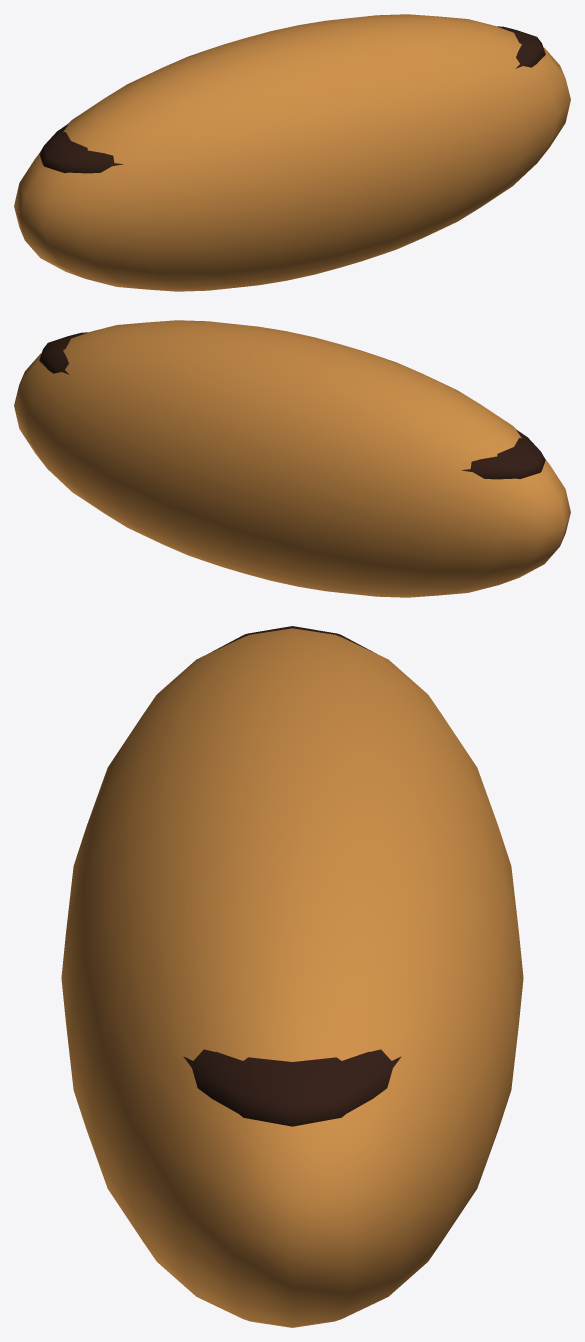
The model's file is wp-eclair-au-chocolat.glb.
3 renders of one model, top to bottom at view 1: azimuth 30°, elevation 25°; view 2: azimuth 150°, elevation 25°; view 3: azimuth 270°, elevation 25°, orthographic. The views are drawn at different scales.
Visible parts, largest first — view 1: wp-eclair-au-chocolat; view 2: wp-eclair-au-chocolat; view 3: wp-eclair-au-chocolat.
Boxes of the visible parts, x1,y1,x2,y2 form: wp-eclair-au-chocolat: [14, 14, 570, 291]; wp-eclair-au-chocolat: [14, 320, 570, 597]; wp-eclair-au-chocolat: [61, 626, 523, 1327].
Bounding box in the file's own units: 0.15 × 0.06 × 0.055.
